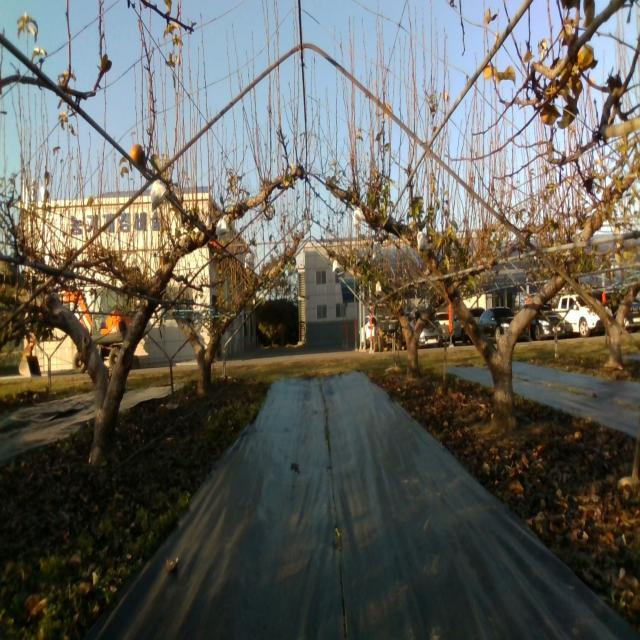pearbags: (150, 180, 166, 212), (417, 231, 430, 253), (215, 216, 228, 236)
